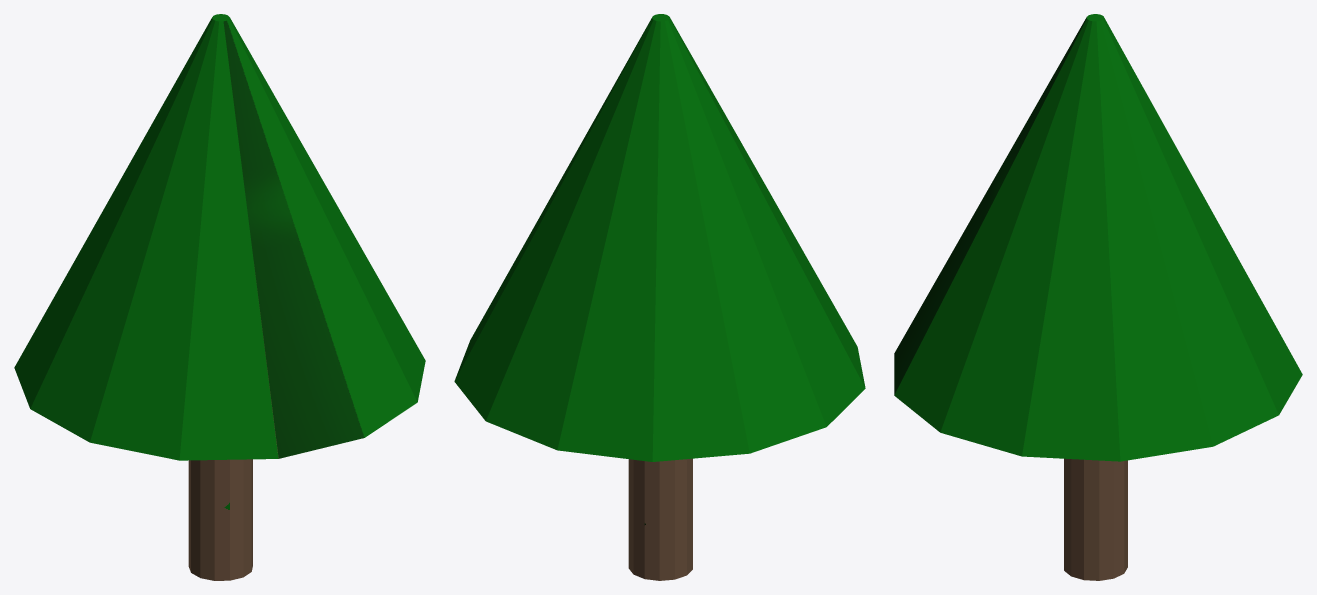
The model's file is tree.obj.
The picture shows the model from 3 angles, left to right: view 1: azimuth 30°, elevation 25°; view 2: azimuth 150°, elevation 25°; view 3: azimuth 270°, elevation 25°; orthographic projection.
Parts seen in each view (by area): view 1: tree_Cylinder; view 2: tree_Cylinder; view 3: tree_Cylinder.
Boxes of the visible parts, x1,y1,x2,y2 form: tree_Cylinder: (14, 14, 425, 580); tree_Cylinder: (454, 14, 865, 580); tree_Cylinder: (894, 14, 1302, 580).
Size of the model in its own units: 3.87 by 5.7 by 3.84.
Materials: 1 (1 with a texture image).
